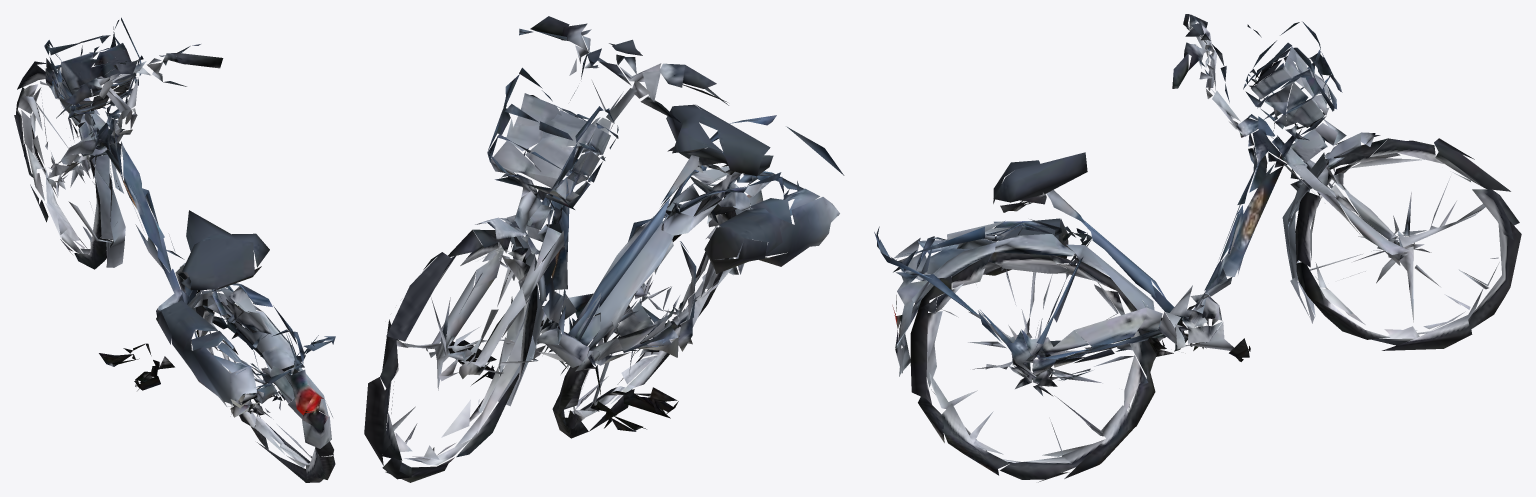
File: bicycle_fallen.glb
The picture shows the model from 3 angles, left to right: view 1: azimuth 30°, elevation 25°; view 2: azimuth 150°, elevation 25°; view 3: azimuth 270°, elevation 25°; orthographic projection. The views are drawn at different scales.
Visible parts, largest first — view 1: tripo_node_96e684f8-46c4-4a20-be47-48d0d35da0b1; view 2: tripo_node_96e684f8-46c4-4a20-be47-48d0d35da0b1; view 3: tripo_node_96e684f8-46c4-4a20-be47-48d0d35da0b1.
Boxes of the visible parts, <box> form: tripo_node_96e684f8-46c4-4a20-be47-48d0d35da0b1: <box>14,17,335,482</box>; tripo_node_96e684f8-46c4-4a20-be47-48d0d35da0b1: <box>364,16,844,482</box>; tripo_node_96e684f8-46c4-4a20-be47-48d0d35da0b1: <box>874,14,1521,482</box>.
Size of the model in its own units: 0.6313 by 1.2 by 1.7.
Materials: 1 (1 with a texture image).
